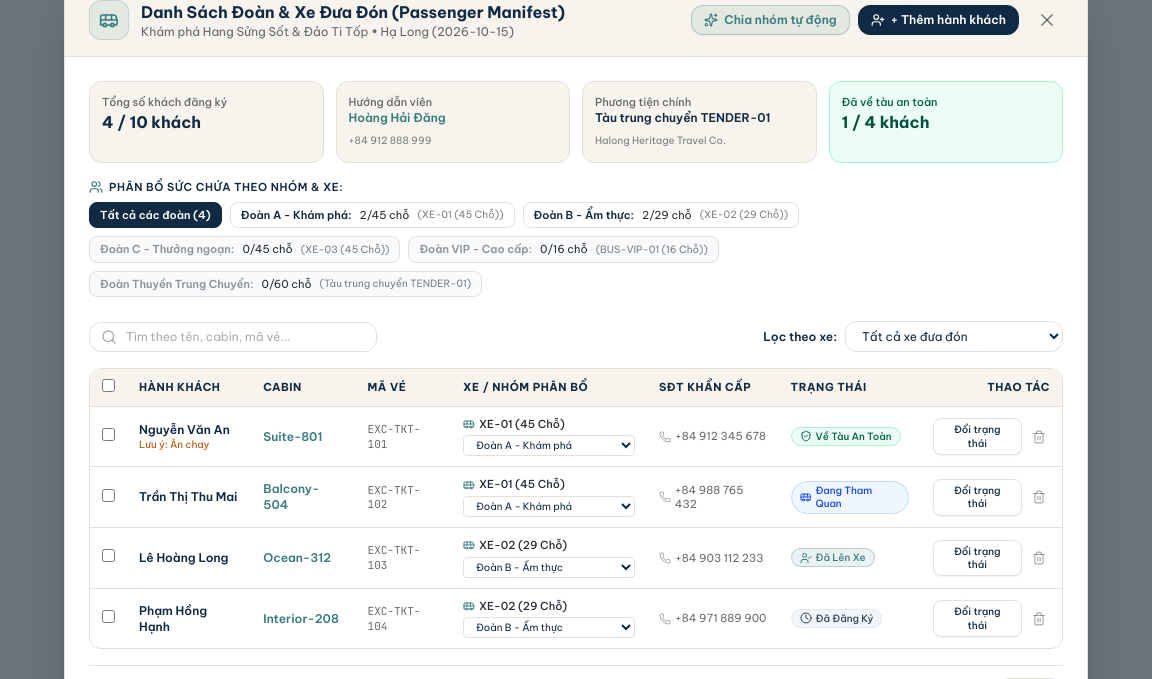
ExcursionGroupAssignment Tests (KAN-181) › supports selecting multiple passengers and bulk-assigning them to a group
Click the checkbox named "Chọn Nguyễn Văn An". click: (108, 435)
box: top-left (102, 428), bottom-right (115, 441)
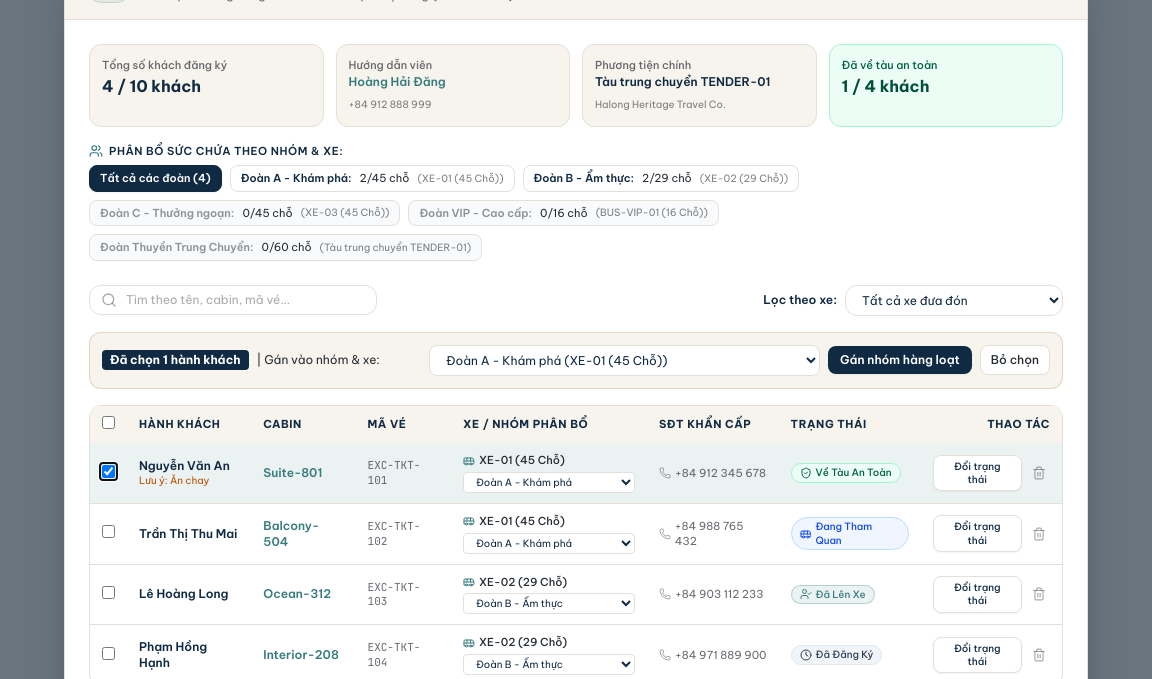
Click the checkbox named "Chọn Trần Thị Thu Mai". click: (108, 532)
box: top-left (102, 525), bottom-right (115, 538)
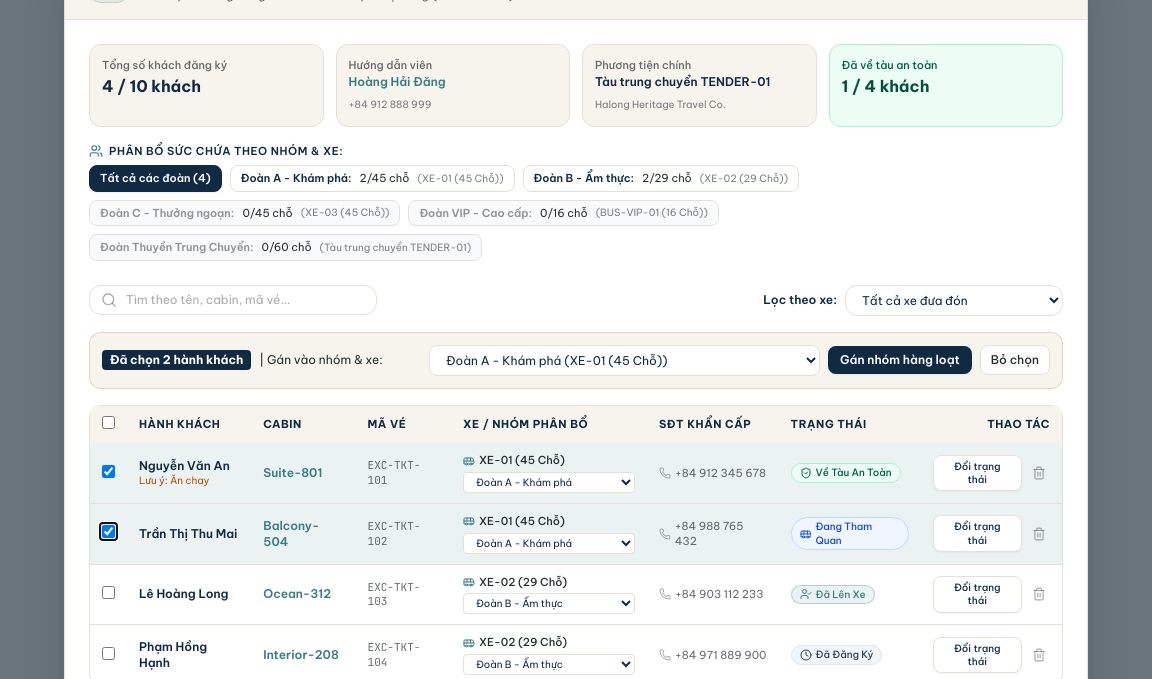
Now the text "Đã chọn 2 hành khách" is shown, box top-left (102, 350), bottom-right (251, 370)
Choose target group in bulk dropdown
Select "Đoàn C - Thưởng ngoạn (XE-03 (45 Chỗ))" in the dropdown named "Chọn đoàn gán hàng loạt". click: (625, 360)
box: top-left (429, 345), bottom-right (820, 376)
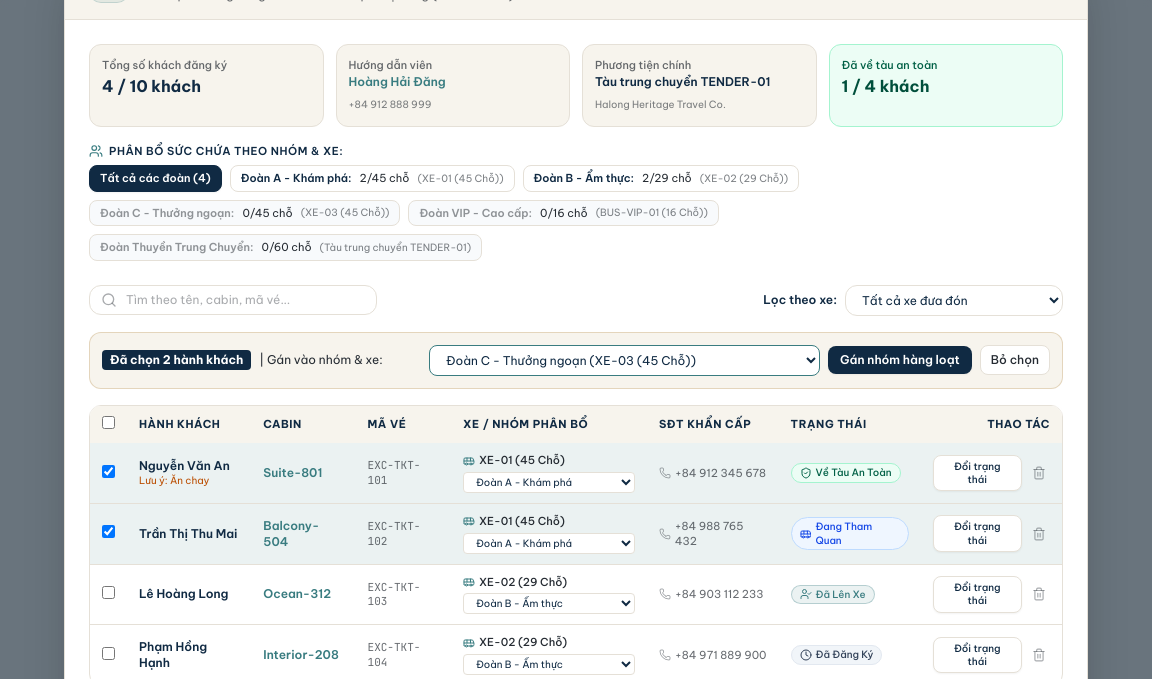
Click Bulk Assign button
Click the button "Gán nhóm hàng loạt". click: (900, 360)
box: top-left (828, 346), bottom-right (972, 374)
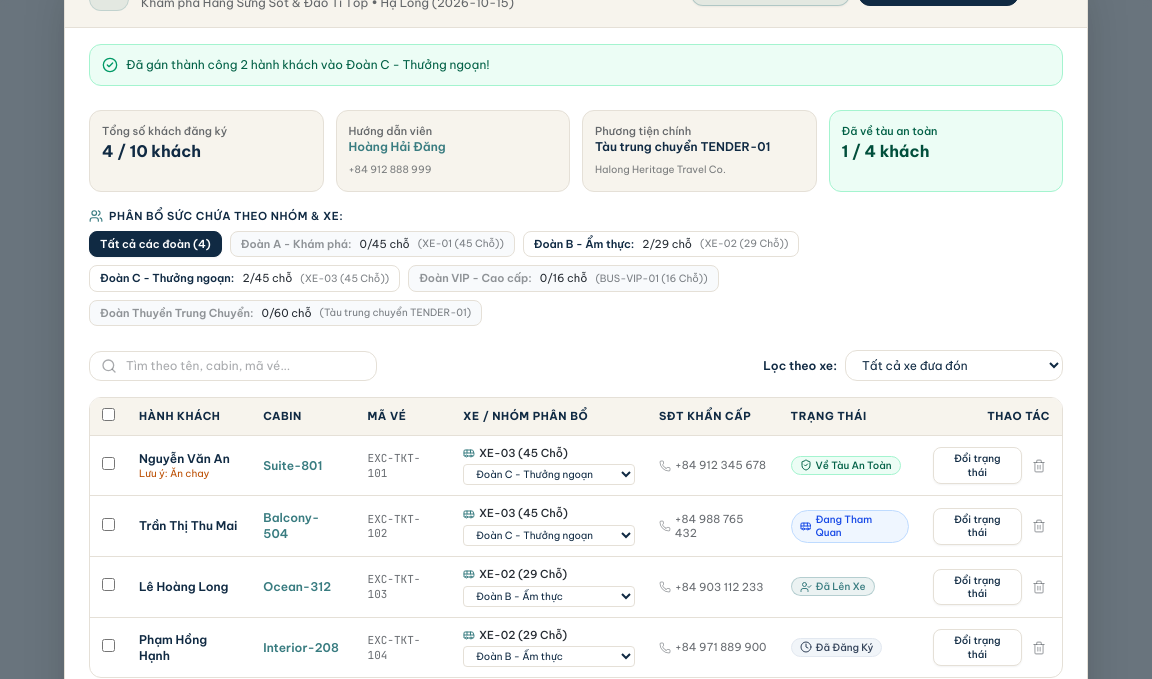
Now the text "Đã gán thành công 2 hành khách vào Đoàn C - Thưởng ngoạn!" is shown, box top-left (126, 57), bottom-right (490, 73)
Now the text "Đã chọn 2 hành khách" is gone
